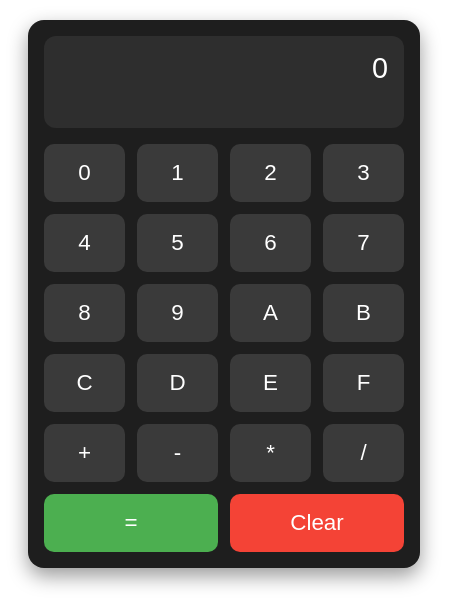
Test: Hex Calculator GUI › digit buttons update input
This screenshot has width=449, height=605.
Click the button "A" at (270, 313), box [230,284,311,342]
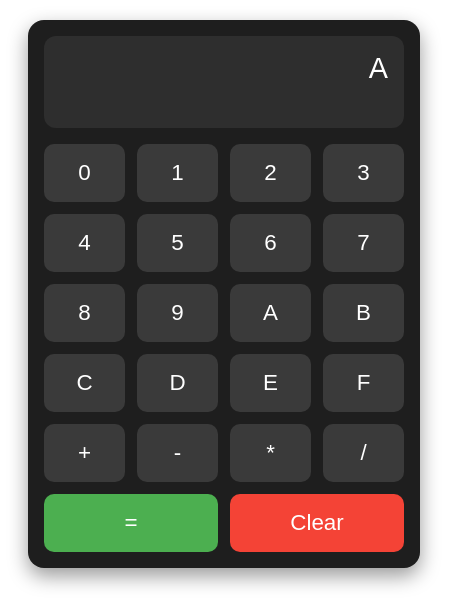
Click the button "F" at (364, 383), box [323,354,404,412]
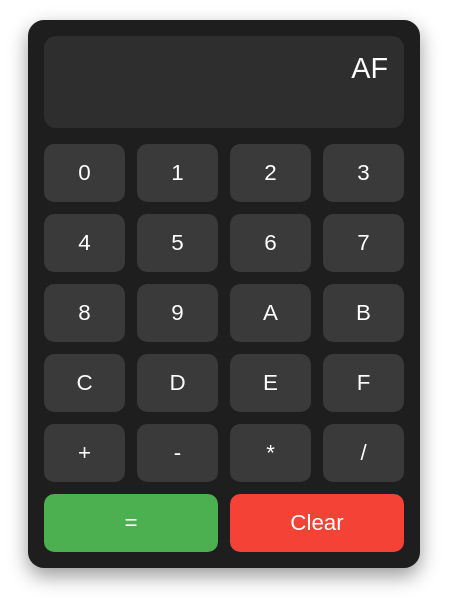
Expected: the text "AF" is shown, [351,52,388,84]
